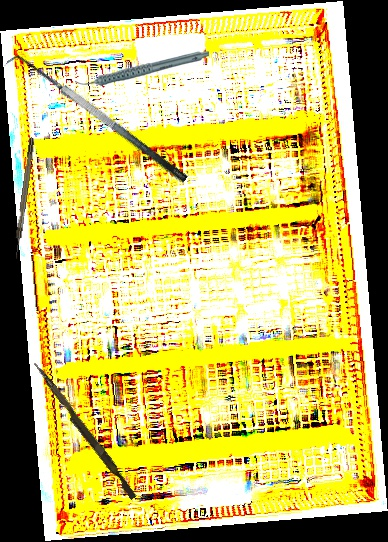Handpiece: (75, 50, 209, 86)
Hook Surgical: (12, 137, 36, 260)
Pusher: (27, 360, 141, 501)
Spatula Surgical: (3, 43, 190, 198)
